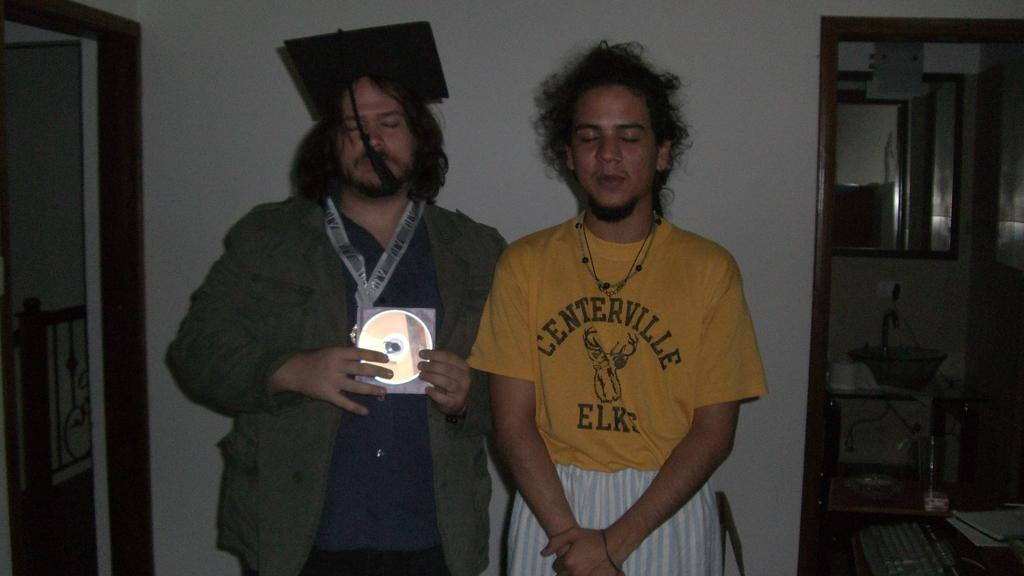Hat: (282, 18, 451, 186)
